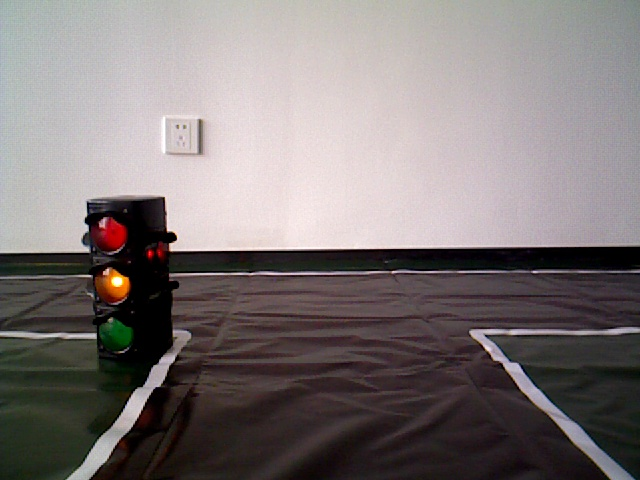yellow: (89, 193, 169, 369)
